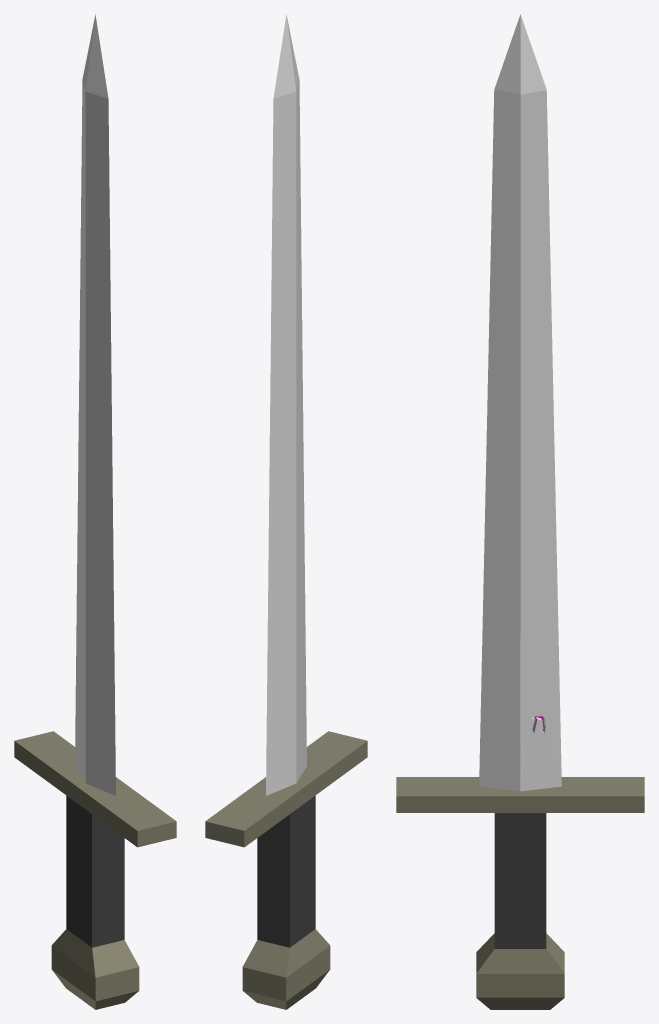
The model's file is ArmingSword.fbx.
The picture shows the model from 3 angles, left to right: view 1: azimuth 30°, elevation 25°; view 2: azimuth 150°, elevation 25°; view 3: azimuth 270°, elevation 25°; orthographic projection.
Parts seen in each view (by area): view 1: Cube.002, Cube.004, Cube.003, Cube.001; view 2: Cube.002, Cube.004, Cube.003, Cube.001; view 3: Cube.002, Cube.003, Cube.004, Cube.001.
Boxes of the visible parts, x1,y1,x2,y2 form: Cube.002: [75, 14, 115, 795]; Cube.004: [66, 795, 124, 947]; Cube.003: [14, 731, 176, 847]; Cube.001: [51, 929, 139, 1009]; Cube.002: [266, 14, 306, 795]; Cube.004: [257, 795, 315, 947]; Cube.003: [205, 731, 367, 847]; Cube.001: [242, 929, 330, 1009]; Cube.002: [479, 14, 561, 791]; Cube.003: [396, 777, 644, 812]; Cube.004: [494, 813, 546, 948]; Cube.001: [476, 933, 564, 1009].
Size of the model in its own units: 32.38 by 691 by 157.
